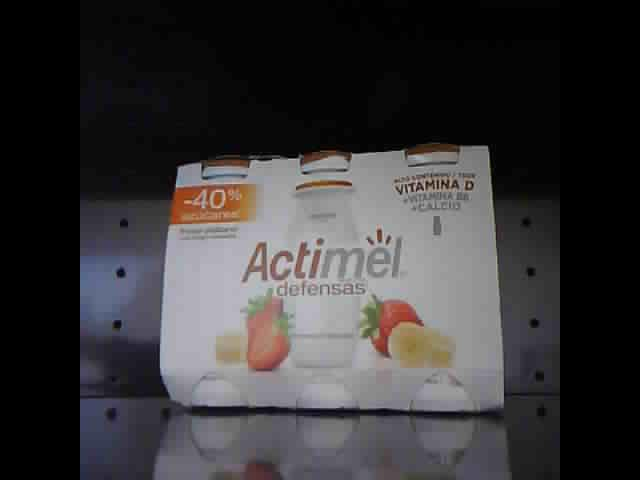actimel: (159, 140, 506, 416)
